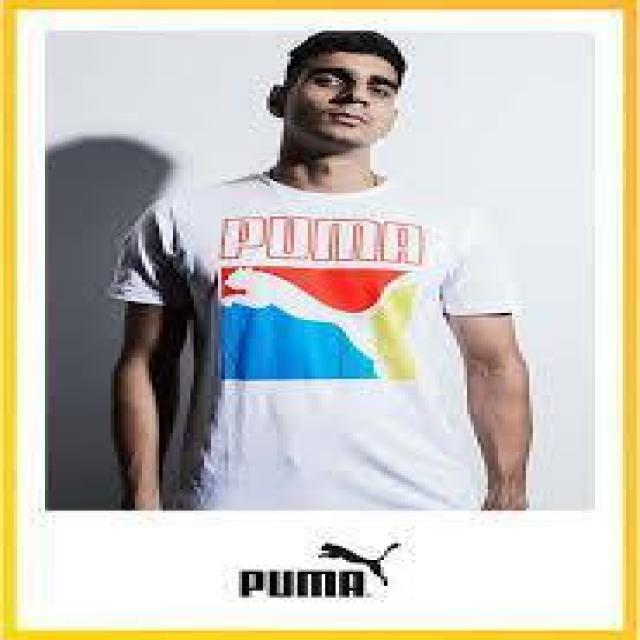Tshirt: (102, 172, 517, 513)
